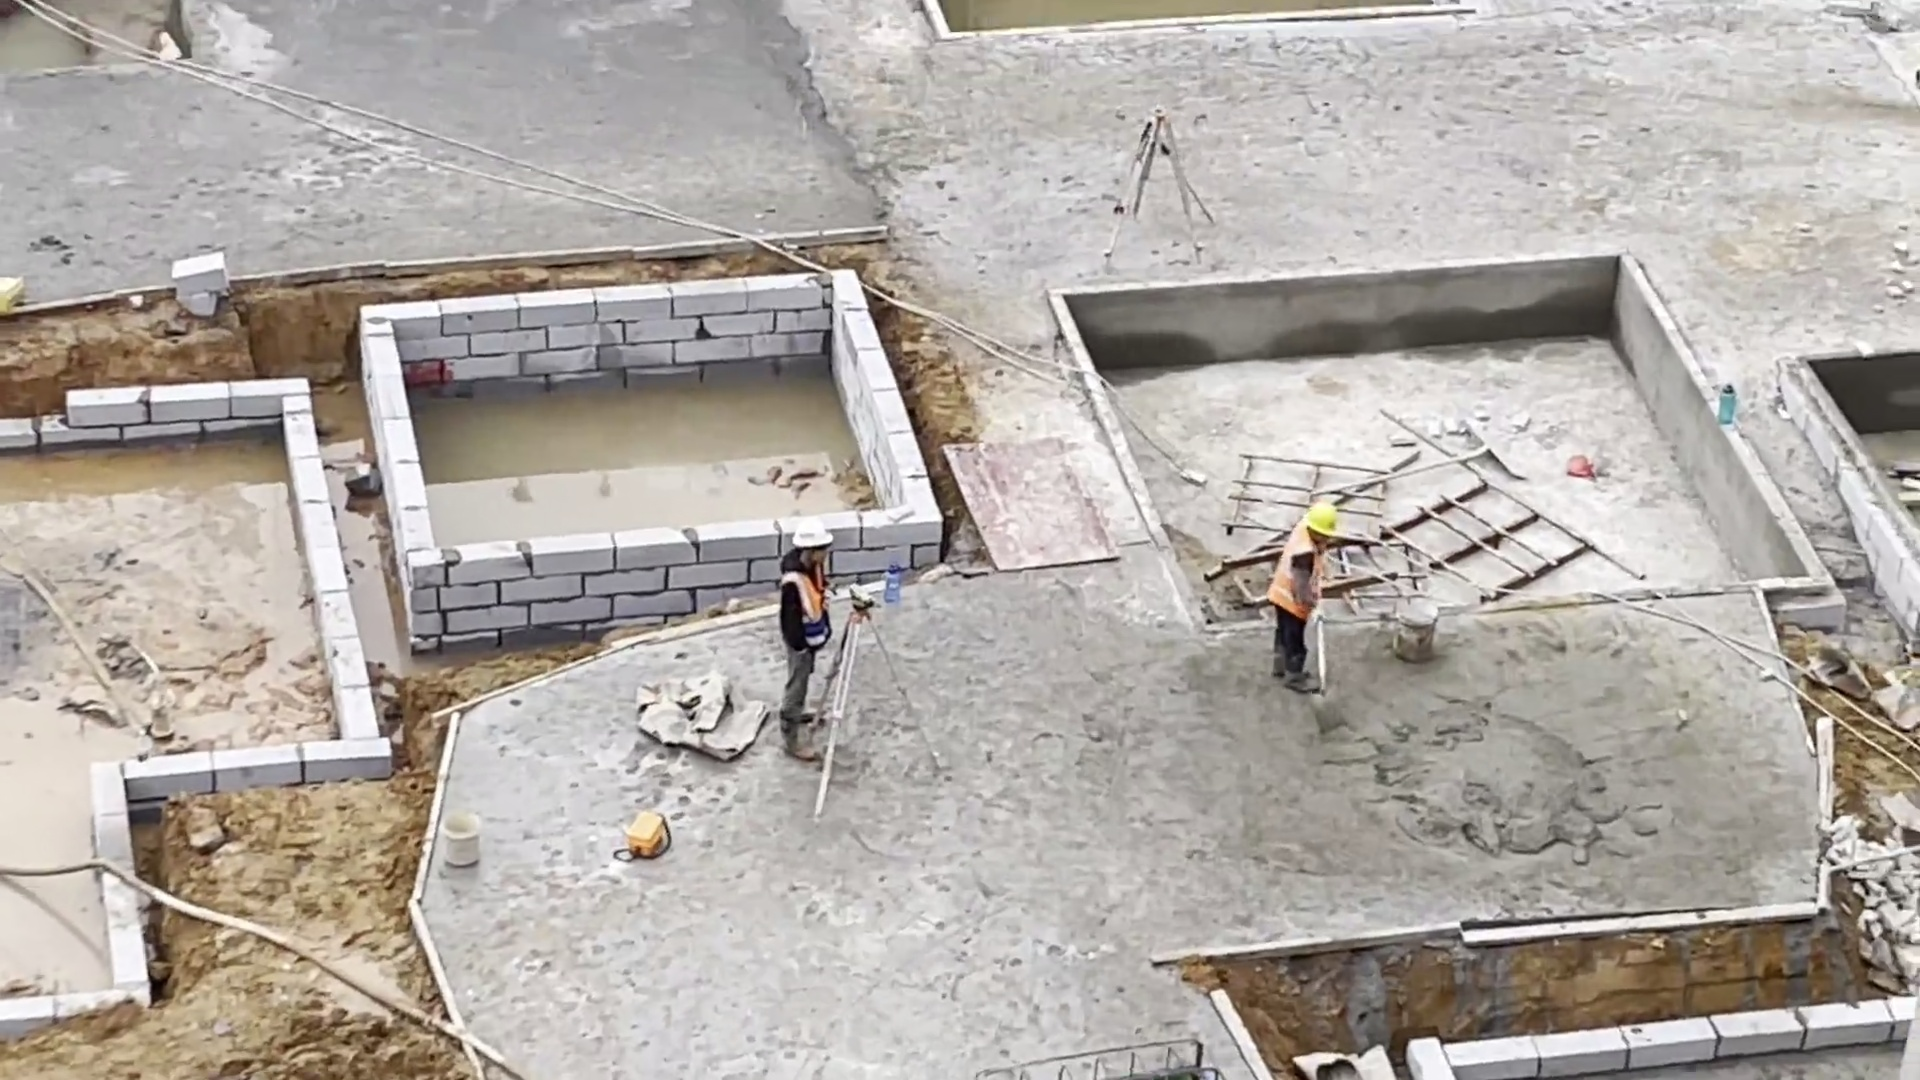helmet: (792, 513, 836, 551), (1304, 499, 1344, 537)
person: (765, 508, 843, 774), (1266, 472, 1342, 688)
vest: (1269, 524, 1326, 632), (791, 564, 832, 646)
